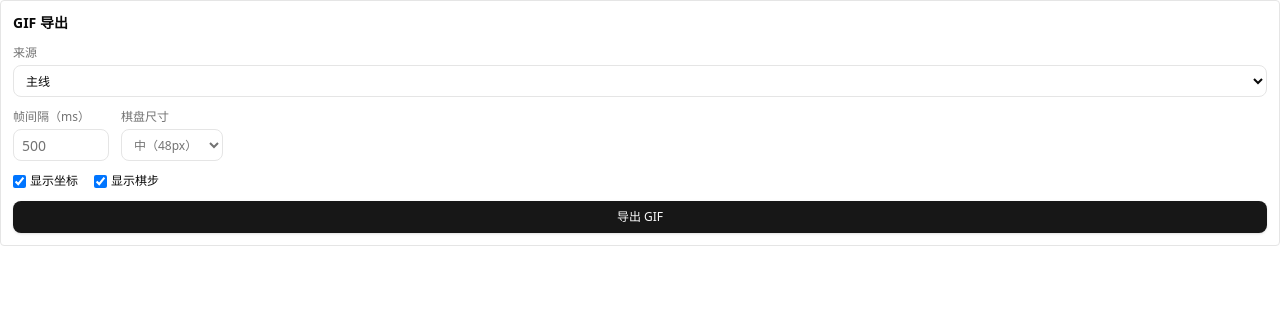
GifExportPanel › disables export when no variations are available
Select "指定变例" in the dropdown with test id "gif-source" at {"x": 640, "y": 81}, box [13,65,1267,97]
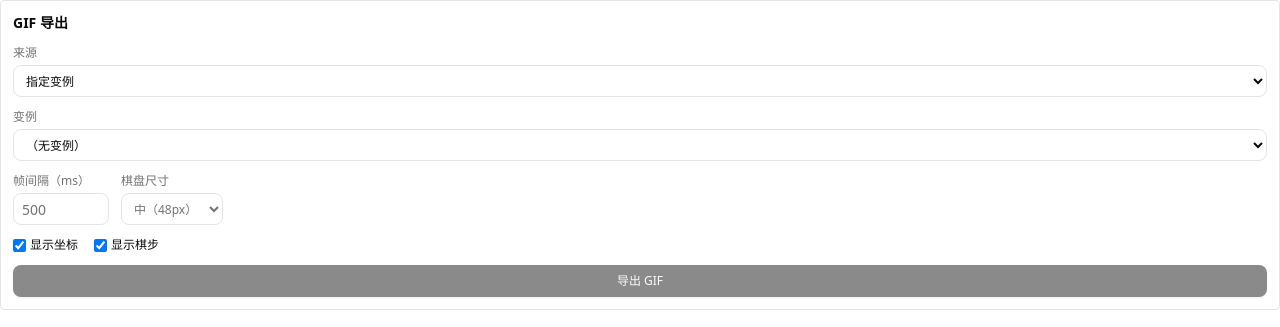
Expected: the button with test id "gif-export" is disabled, [13,265,1267,297]
